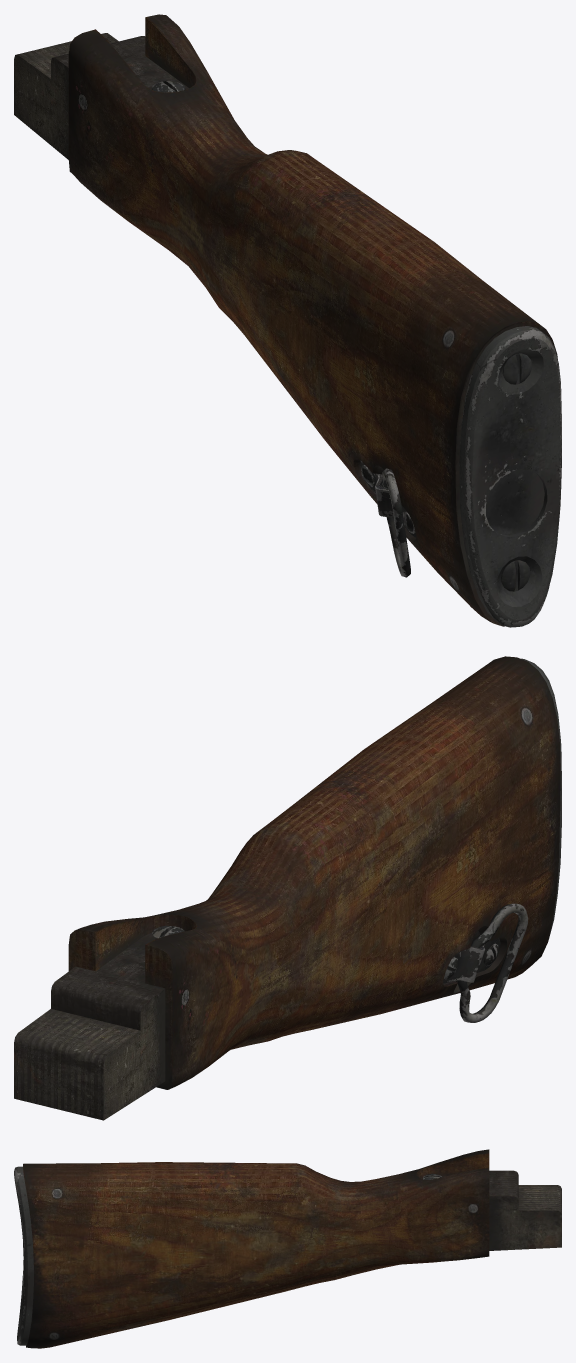
File: coronha_madeira_akmn.glb
3 renders of one model, top to bottom at view 1: azimuth 30°, elevation 25°; view 2: azimuth 150°, elevation 25°; view 3: azimuth 270°, elevation 25°, orthographic. The views are drawn at different scales.
Visible parts, largest first — view 1: coronha_madeira_akmn_coronha; view 2: coronha_madeira_akmn_coronha; view 3: coronha_madeira_akmn_coronha.
Part boxes in pixels (x1,y1,x2,y2): coronha_madeira_akmn_coronha: (14, 14, 561, 627); coronha_madeira_akmn_coronha: (14, 656, 561, 1120); coronha_madeira_akmn_coronha: (14, 1149, 561, 1348).
Size of the model in its own units: 0.0407 by 0.1013 by 0.2709.
Materials: 1 (1 with a texture image).
